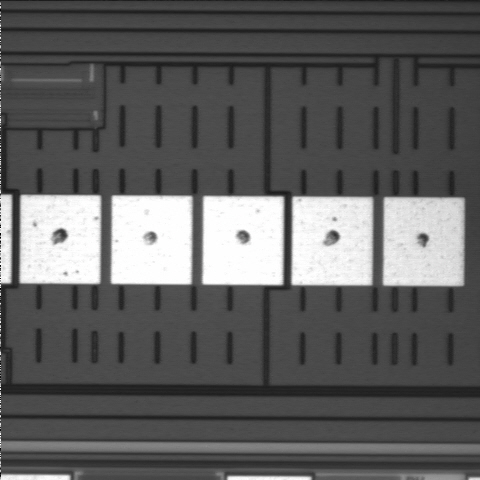pad: (202, 196, 284, 285), (20, 195, 101, 284), (111, 196, 192, 285), (383, 197, 464, 286), (292, 197, 373, 285)
